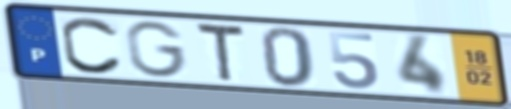0: (257, 25, 317, 90)
4: (394, 32, 452, 99)
5: (326, 30, 382, 91)
C: (58, 14, 126, 77)
G: (122, 19, 190, 80)
T: (192, 20, 248, 86)
